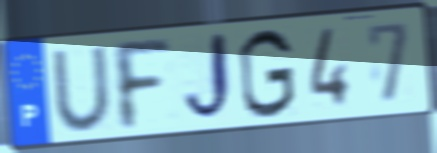4: (308, 24, 353, 111)
7: (366, 20, 411, 106)
F: (107, 38, 175, 134)
G: (236, 26, 298, 121)
J: (180, 29, 236, 127)
U: (48, 43, 115, 134)
